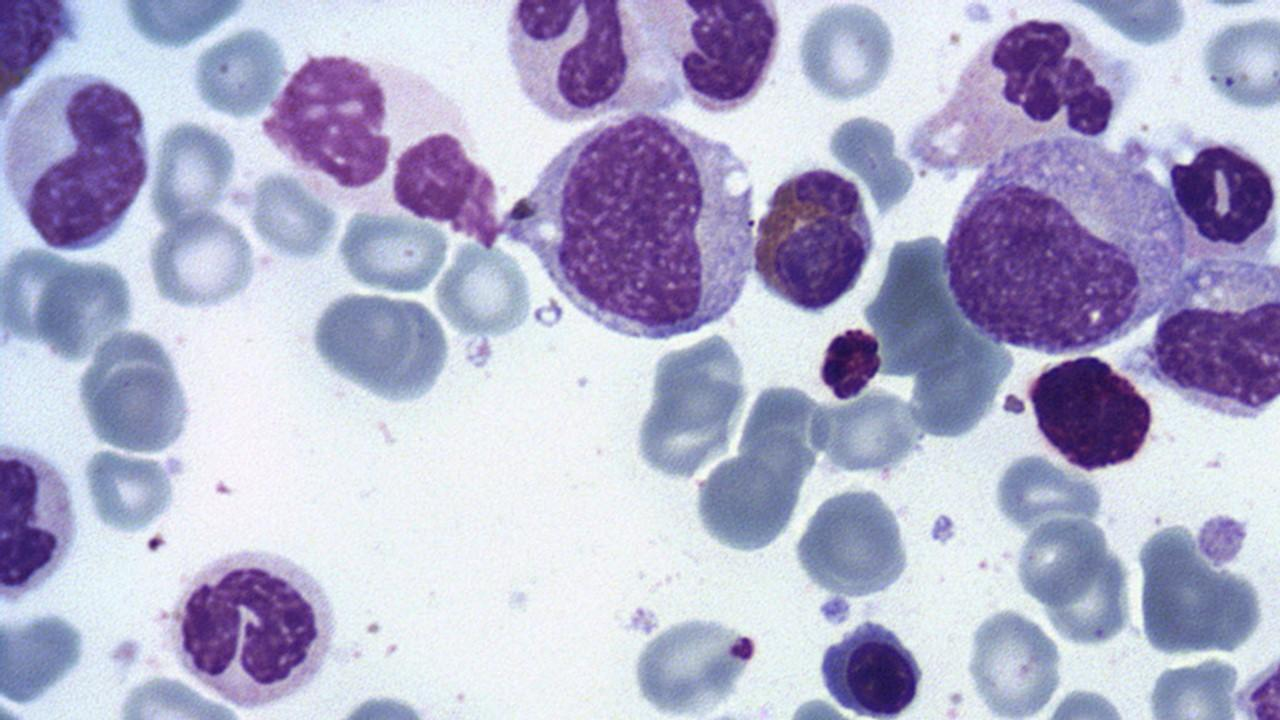Platelets: (1195, 508, 1253, 568), (104, 632, 145, 671), (622, 603, 662, 638), (926, 508, 959, 549), (815, 594, 853, 628), (958, 1, 994, 27), (162, 452, 188, 478)
RBC: (1131, 508, 1275, 660), (629, 325, 752, 481), (303, 289, 453, 410), (790, 479, 916, 601), (76, 335, 198, 460), (624, 615, 766, 719), (145, 207, 260, 313), (959, 608, 1067, 716), (690, 451, 798, 555), (794, 1, 900, 106), (1038, 536, 1134, 648), (432, 238, 536, 340), (148, 118, 240, 232), (334, 209, 449, 295), (186, 24, 286, 122), (1, 606, 96, 709), (82, 446, 178, 538), (1012, 512, 1104, 608), (248, 164, 339, 260), (1200, 8, 1280, 115), (104, 1, 269, 48)
WBC: (501, 108, 767, 346), (937, 138, 1161, 366), (258, 44, 501, 244), (915, 4, 1124, 183), (494, 0, 780, 127), (160, 540, 347, 712), (0, 64, 158, 255), (1144, 262, 1278, 423), (750, 157, 882, 315), (1026, 350, 1154, 477), (1166, 131, 1280, 263), (0, 433, 85, 607), (814, 618, 929, 716), (0, 1, 83, 97), (474, 195, 475, 219)
